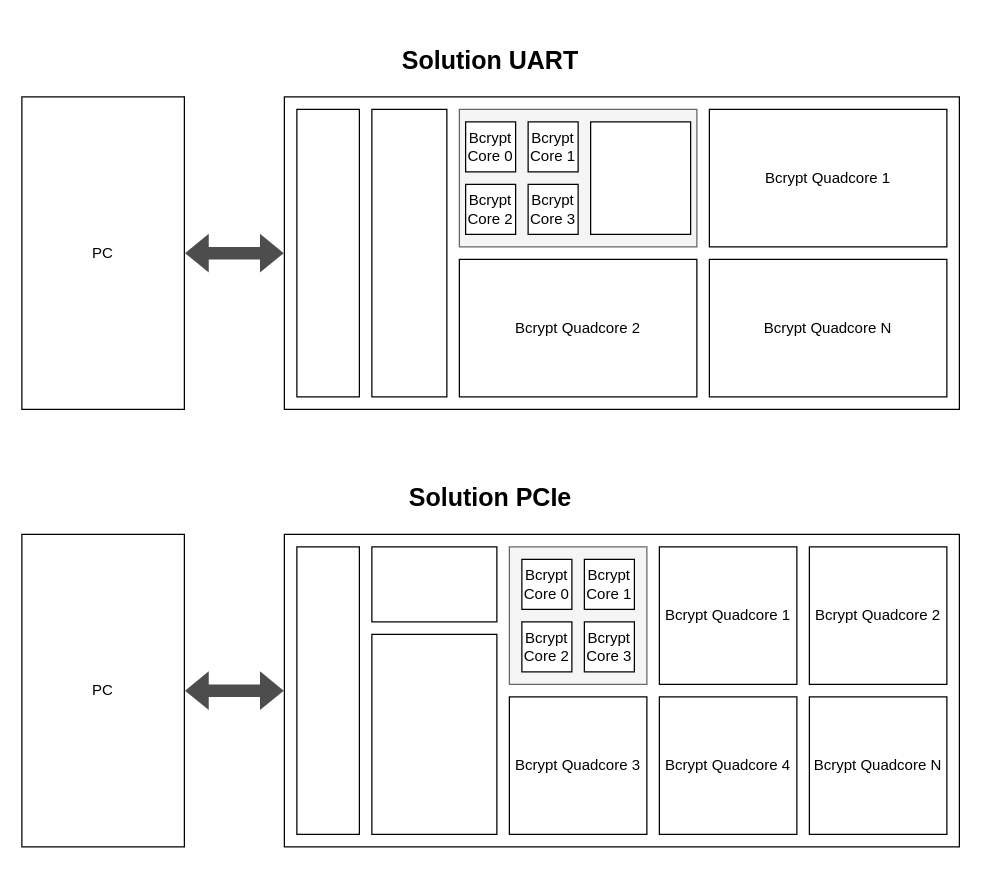
The diagram is 981 pixels wide and 869 high, and some of its shapes have lost their labels. The shapes that lost their labels are listed below. From the top down, each one's centre as x and y in pixels, then its label:
At pixel 640 177: "Password Generator".
At pixel 327 252: "UART TX/RX".
At pixel 409 252: "Packet System".
At pixel 434 584: "Registers".
At pixel 327 690: "PCIe DMA".
At pixel 434 733: "Password Buffer".
